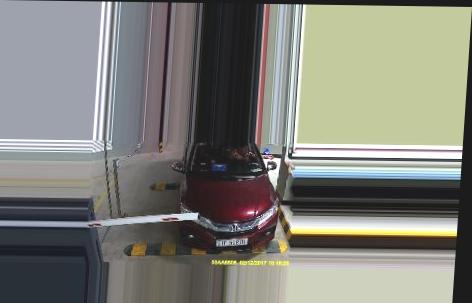License_Plate: (214, 233, 252, 249)
